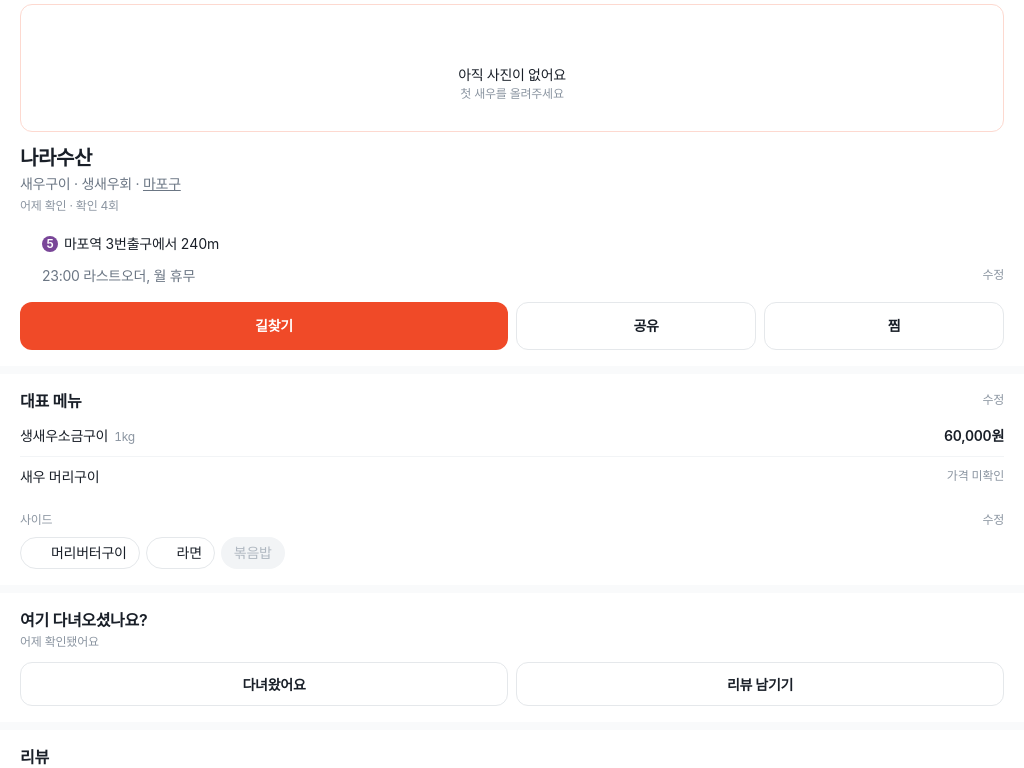
Test: 정보 블록 — 최근접역 줄 + 접히는 주소 › 주소는 기본 접힘 — 역 줄을 누르면 도로명·지번·[복사]가 열리고 다시 누르면 닫힌다
Expected: the text "서울 마포구 마포대로12길 34" is not shown
Click the button with aria-label "5호선 마포역 3번출구에서 240m".
click(141, 244)  # box [42,234,1004,254]
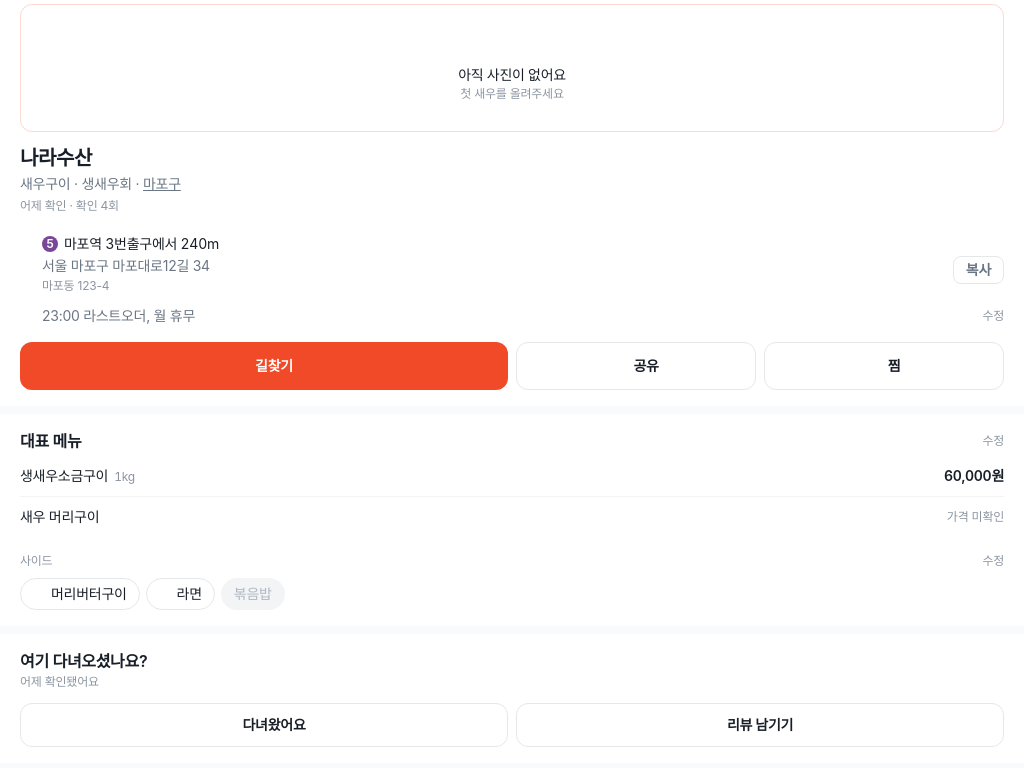
Expected: the text "서울 마포구 마포대로12길 34" is shown, [42,257,210,274]
Expected: the text "마포동 123-4" is shown, [42,278,109,293]
Click the button with aria-label "5호선 마포역 3번출구에서 240m".
click(141, 244)  # box [42,234,1004,254]
(page scrolled)
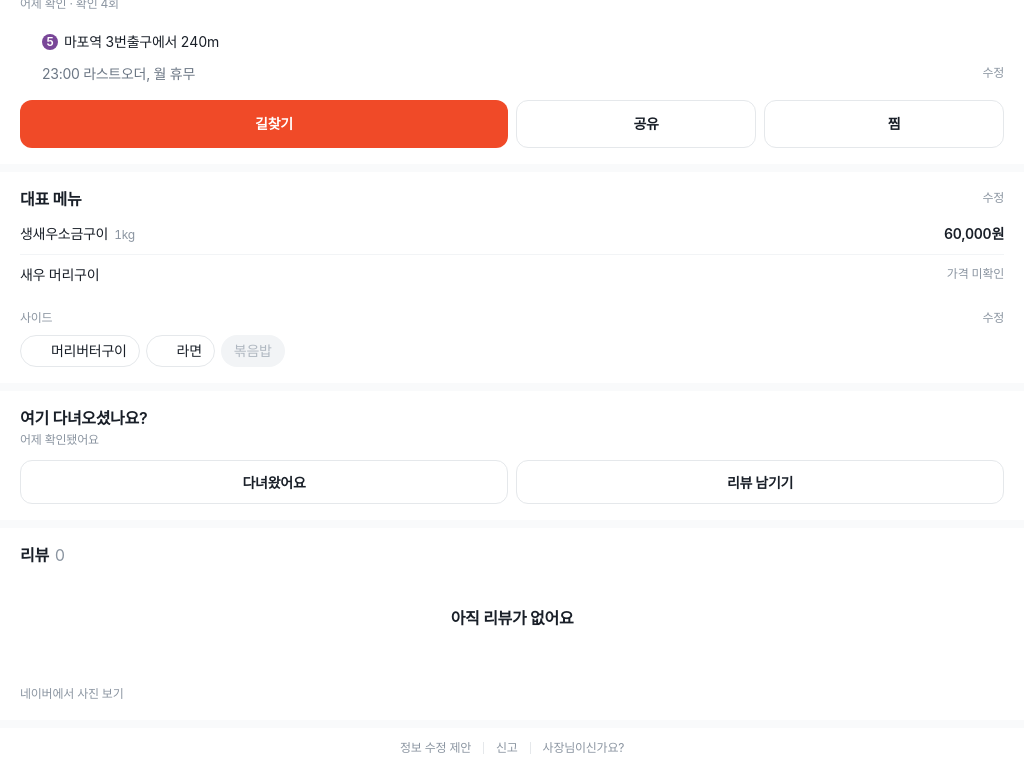
Expected: the button with aria-label "5호선 마포역 3번출구에서 240m" is collapsed, [42,32,1004,52]
Expected: the text "서울 마포구 마포대로12길 34" is gone
Expected: the text "아직 리뷰가 없어요" is shown, [451,607,573,629]
